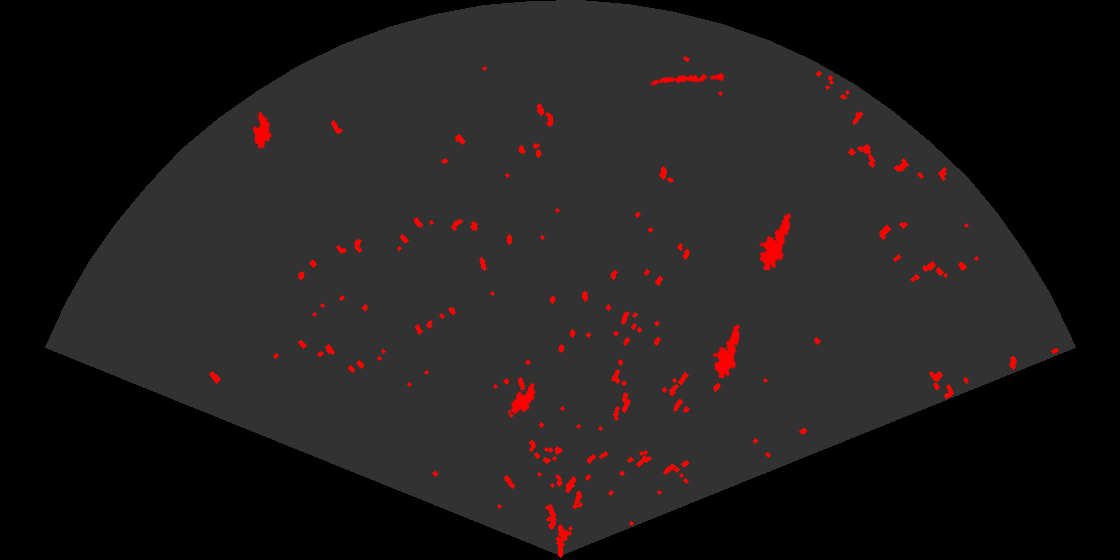AUV: (509, 381, 537, 416), (251, 110, 274, 151)
chain: (649, 71, 725, 88)
frogman: (757, 212, 793, 270), (711, 322, 741, 378)
